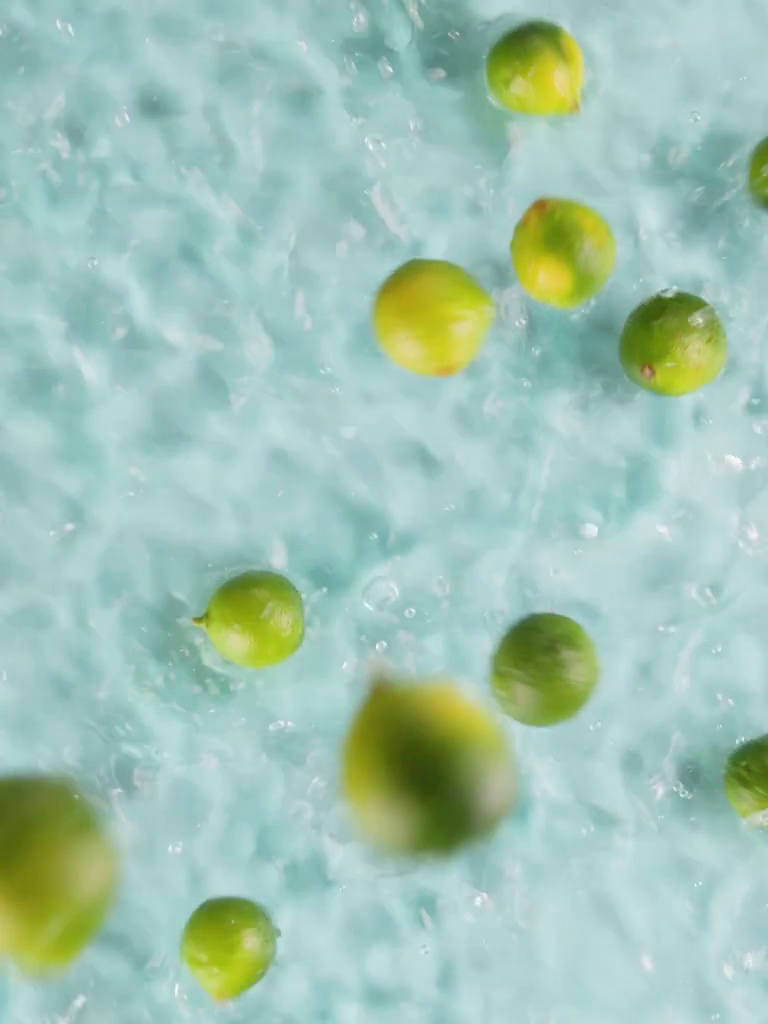Orange: (341, 677, 522, 864), (361, 245, 494, 384)
